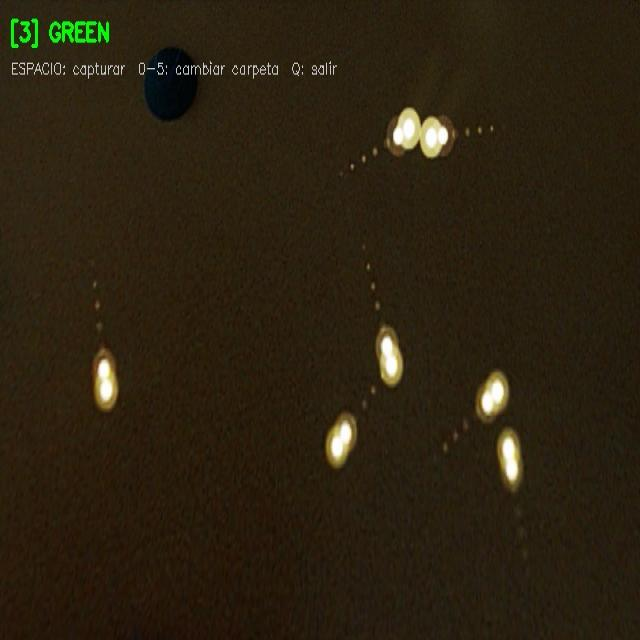green: (144, 46, 196, 124)
